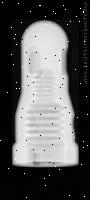Camlog: (12, 19, 79, 167)
